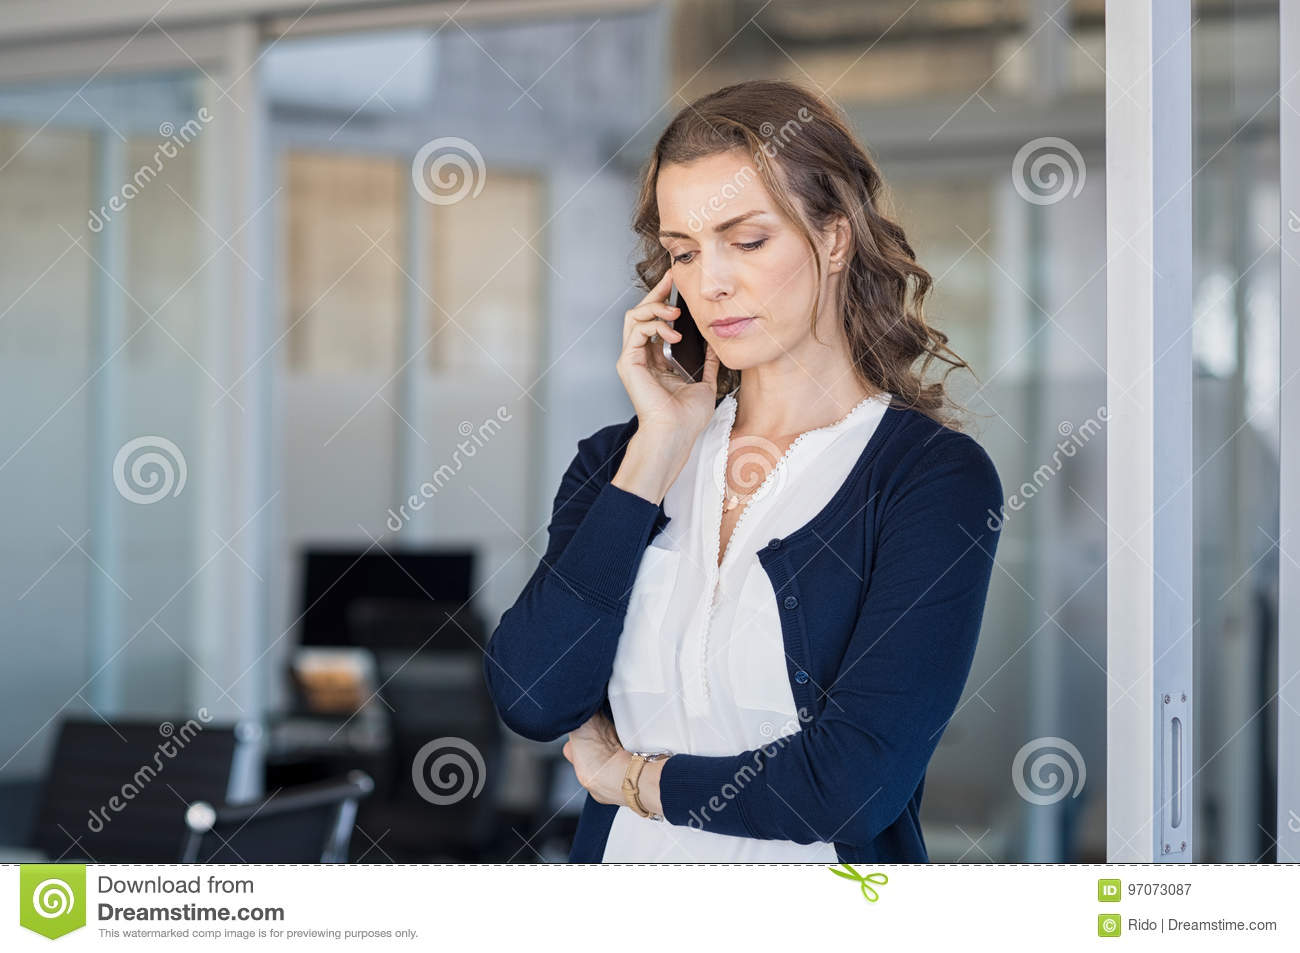phone: (660, 284, 712, 394)
talk: (619, 211, 784, 470)
